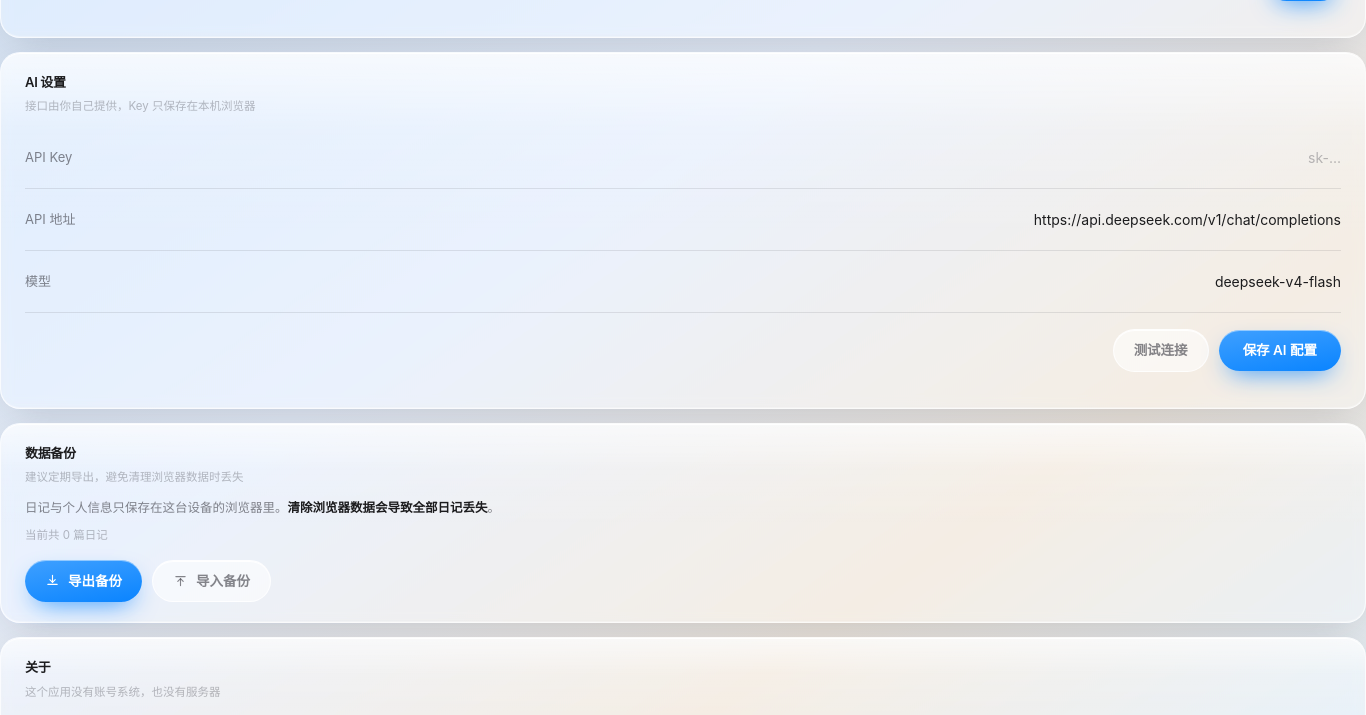
Test: SettingsPage 连接自检 › 测试失败后显示错误原因
The width and height of the screenshot is (1366, 715).
(page scrolled)
What coordinates should you click on to do the following:
click the button "测试连接"
I would click on:
 (1161, 350)
Its box is [1113, 329, 1209, 372].
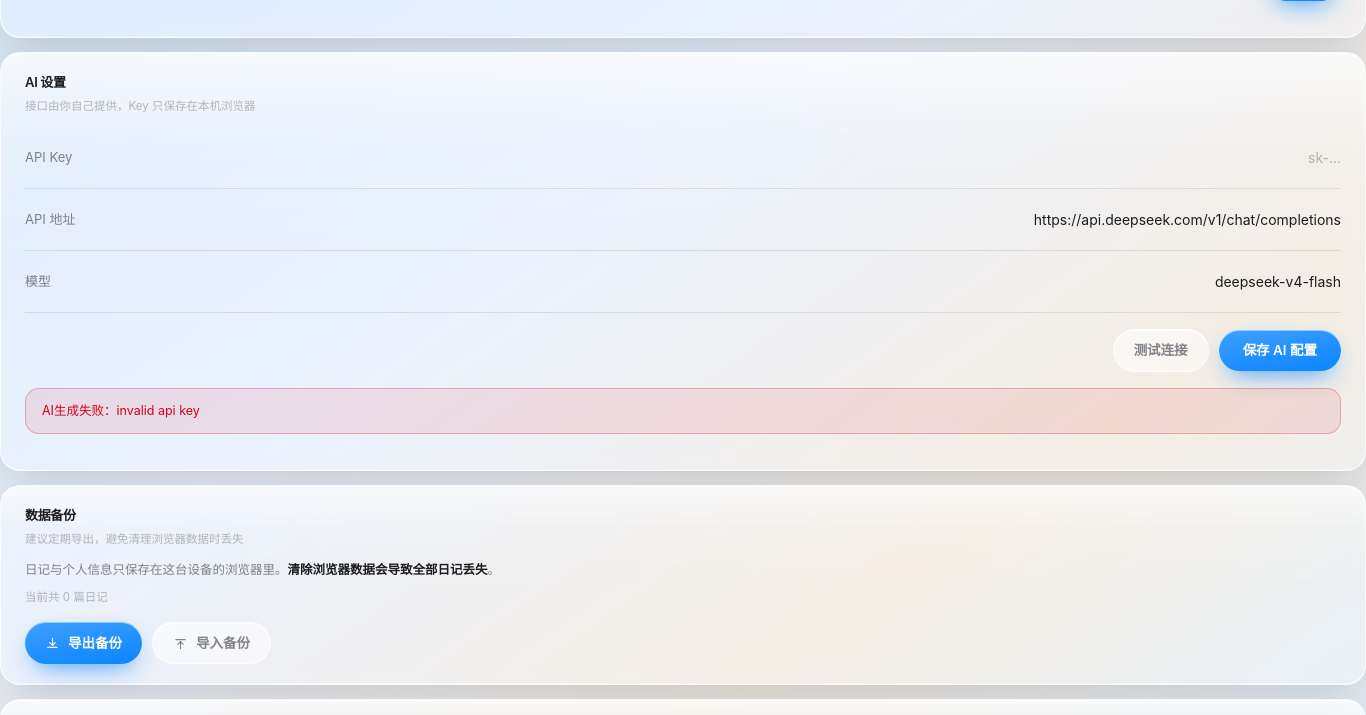
Result: the text "AI生成失败：invalid api key" is shown at [25, 388, 1341, 434]
